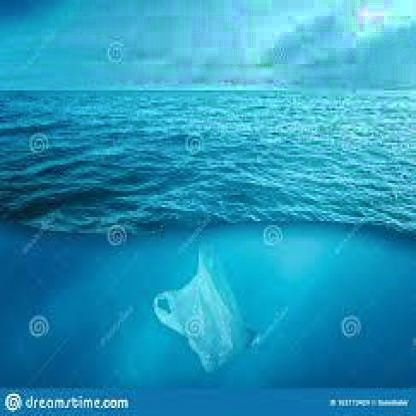pbag: (152, 241, 257, 376)
